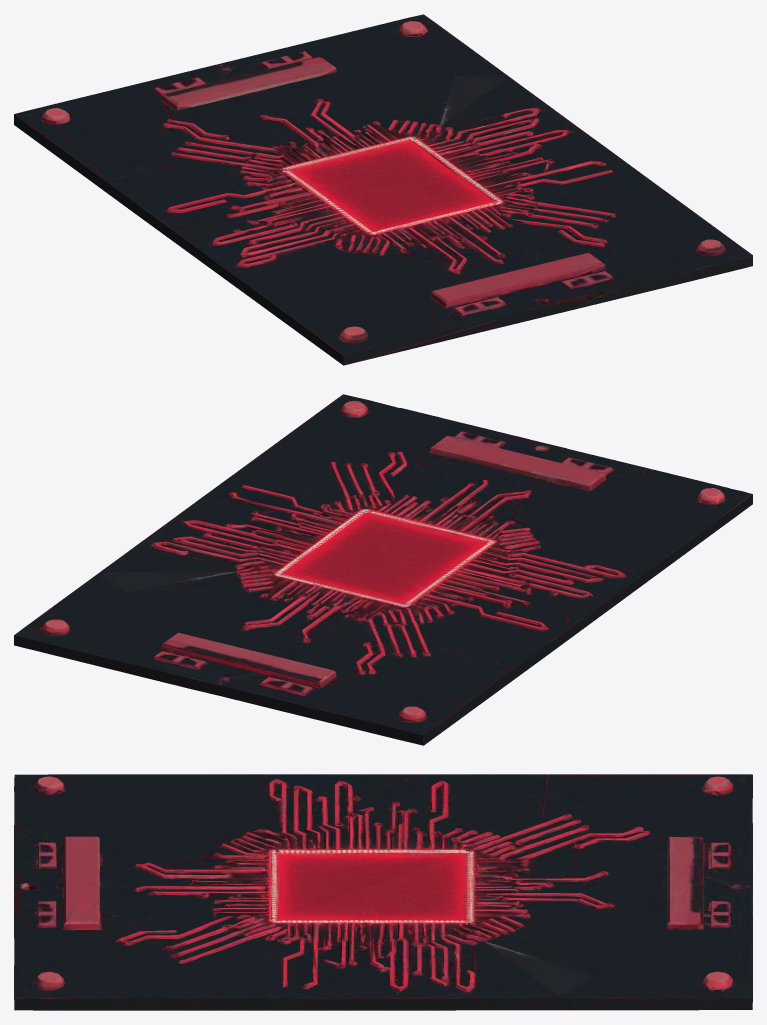
File: microchip.glb
3 renders of one model, top to bottom at view 1: azimuth 30°, elevation 25°; view 2: azimuth 150°, elevation 25°; view 3: azimuth 270°, elevation 25°, orthographic. The views are drawn at different scales.
Size of the model in its own units: 1.37 by 0.0567 by 1.9.
1 material, 1 textured.
